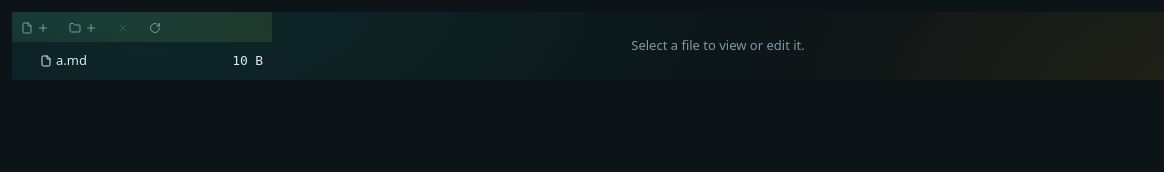
it: ExplorerView › surfaces a failed read, and a refused save, where the user is looking
This screenshot has width=1164, height=172.
Expected: the text "a.md" is shown, [56,51,87,69]
Click the button with test id "explorer-item" at (71, 60), box [12,44,272,76]
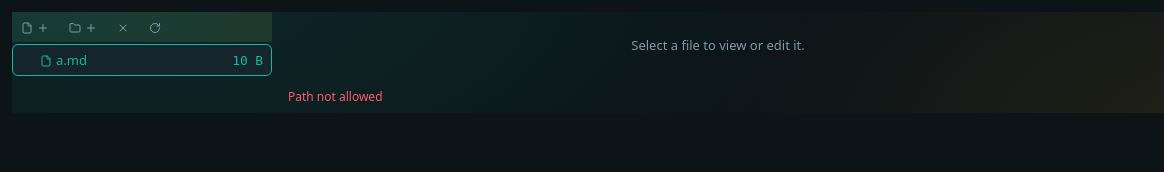
Now the text "Path not allowed" is shown, box [288,88,382,104]
